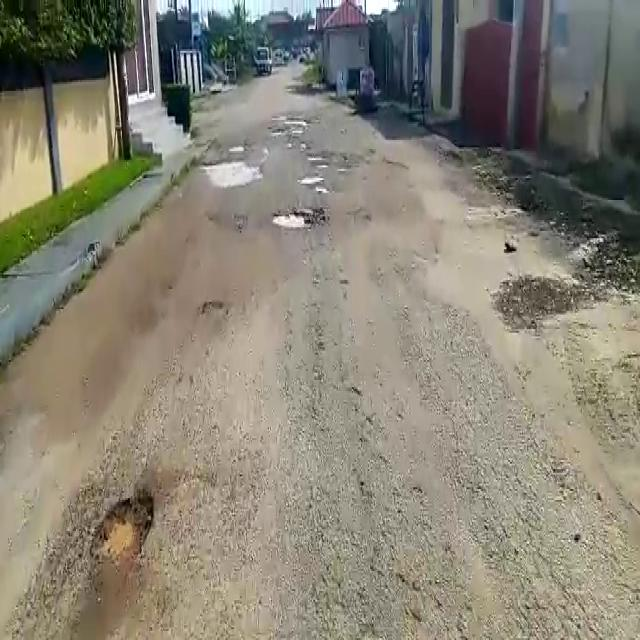Pothole: (96, 486, 153, 562), (202, 156, 258, 184), (269, 208, 320, 232), (298, 172, 328, 187)
